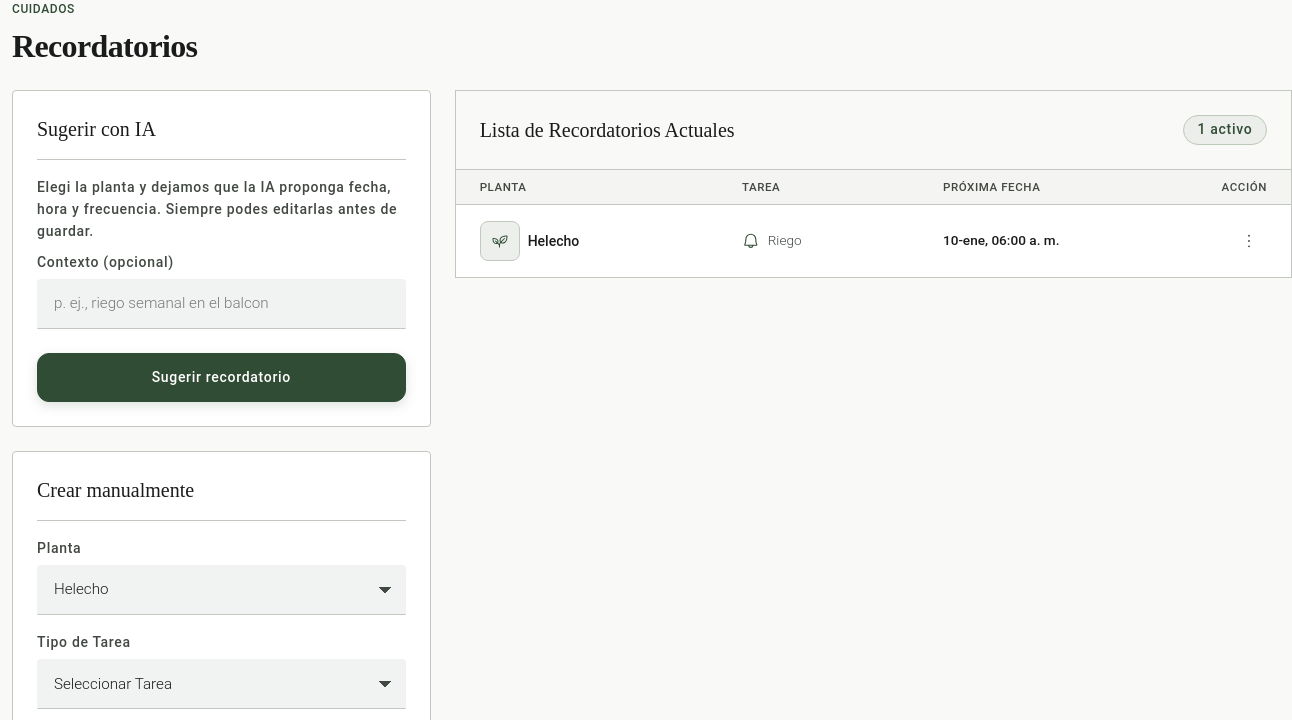
Scenario: RemindersManager › creates a reminder and invalidates reminder and garden queries
Select "Riego" in the dropdown labelled "Tipo de Tarea": (221,684) top-left (37, 659), bottom-right (406, 710)
(page scrolled)
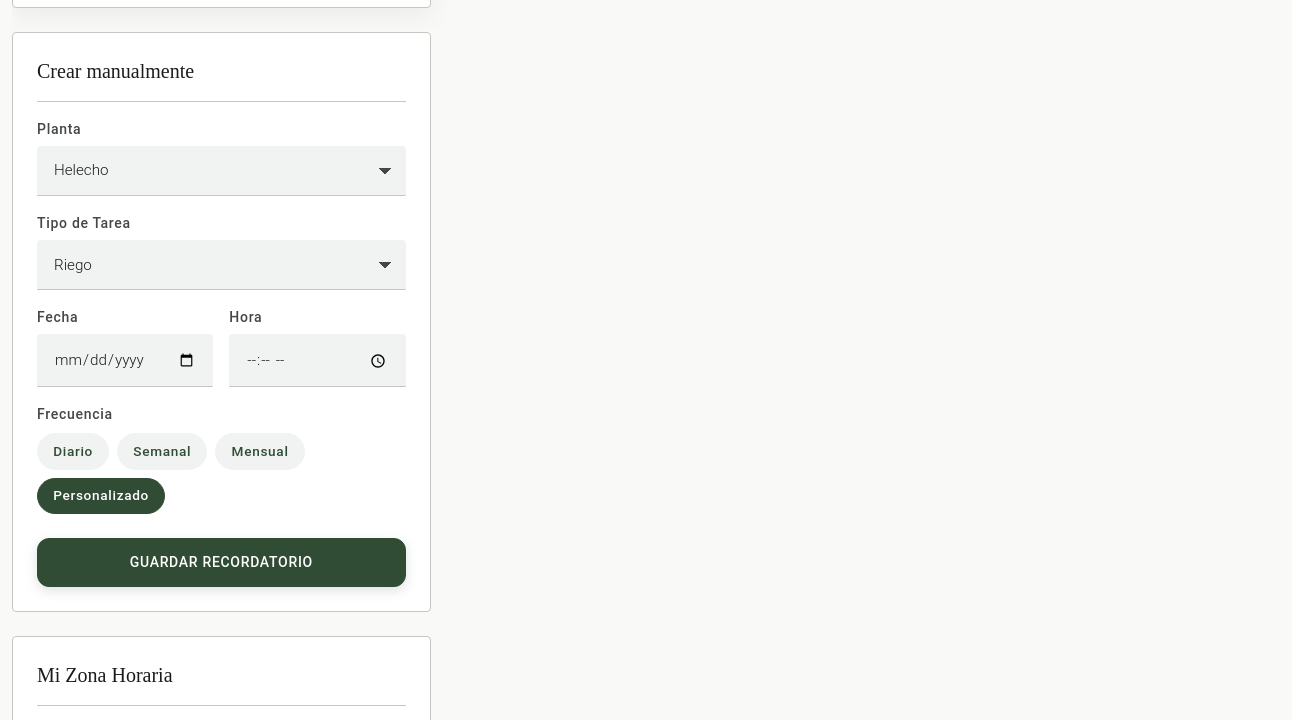
In the date field labelled "Fecha": (125,361) top-left (37, 334), bottom-right (213, 387), type "2999-01-10"
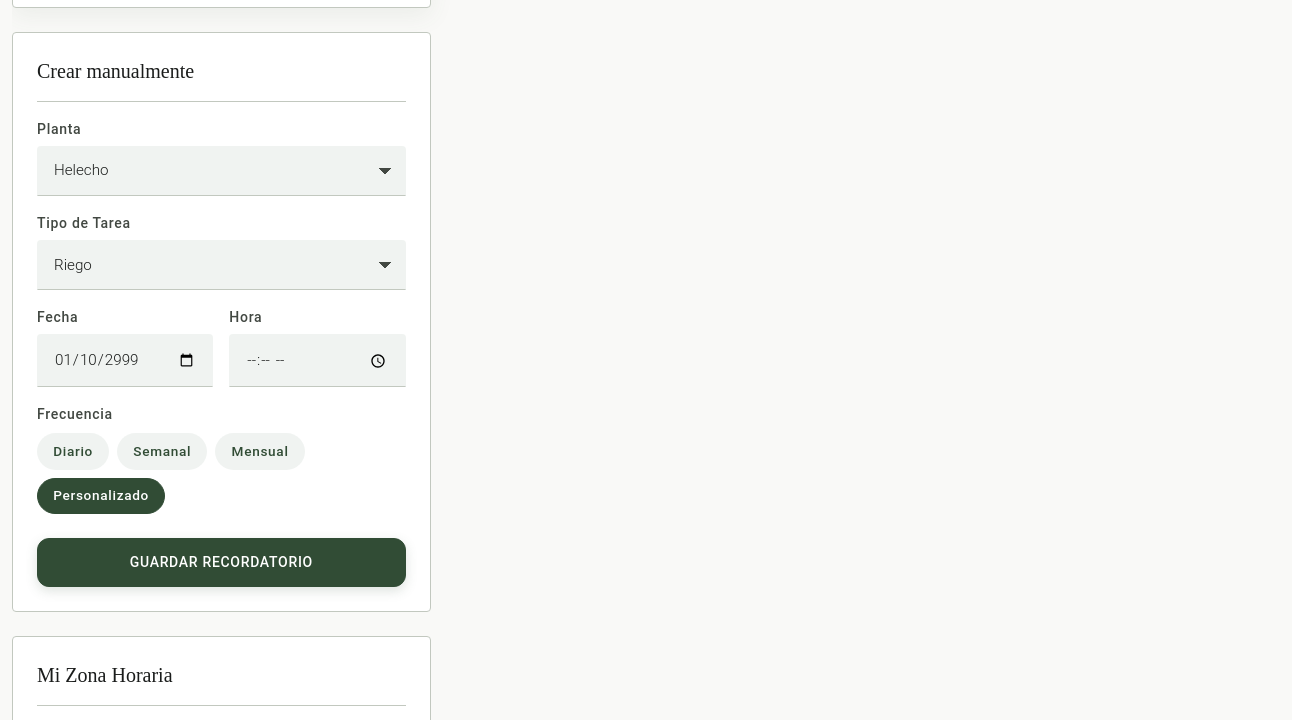
In the time field labelled "Hora": (317,361) top-left (229, 334), bottom-right (406, 387), type "09:00"
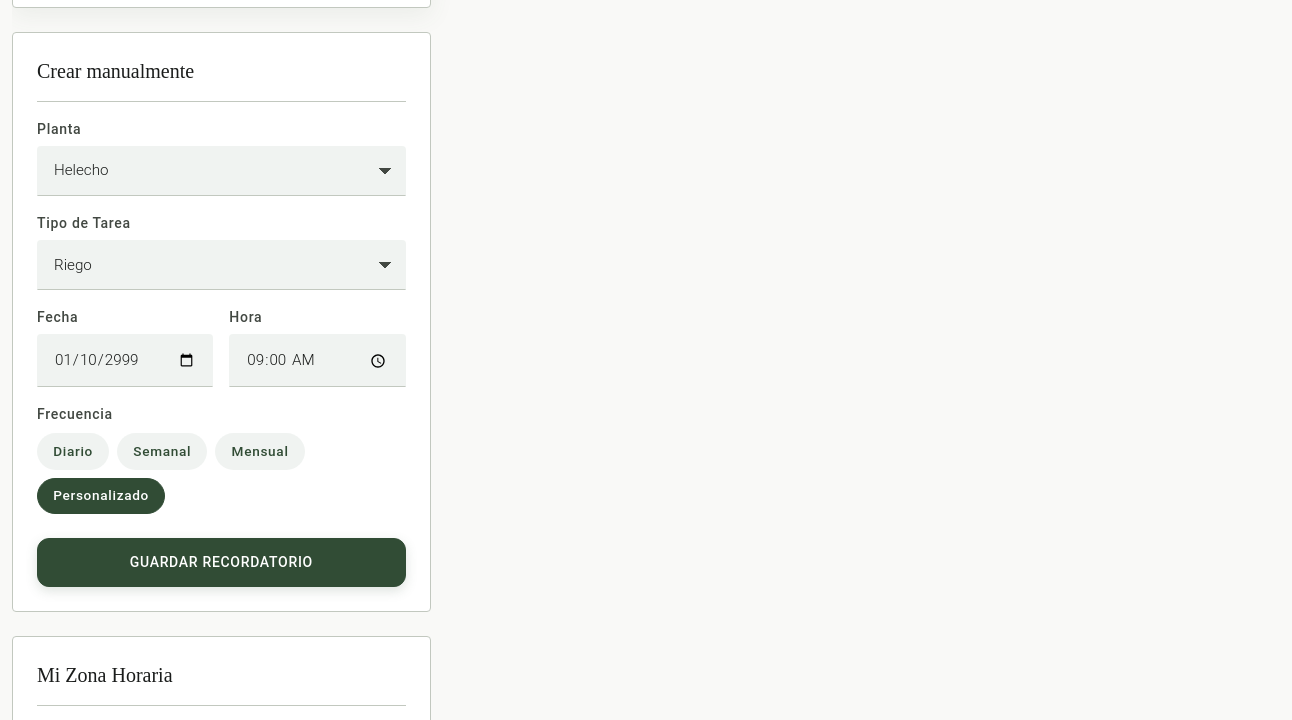
Click the radio button labelled "Semanal": (162,452) top-left (117, 433), bottom-right (208, 470)
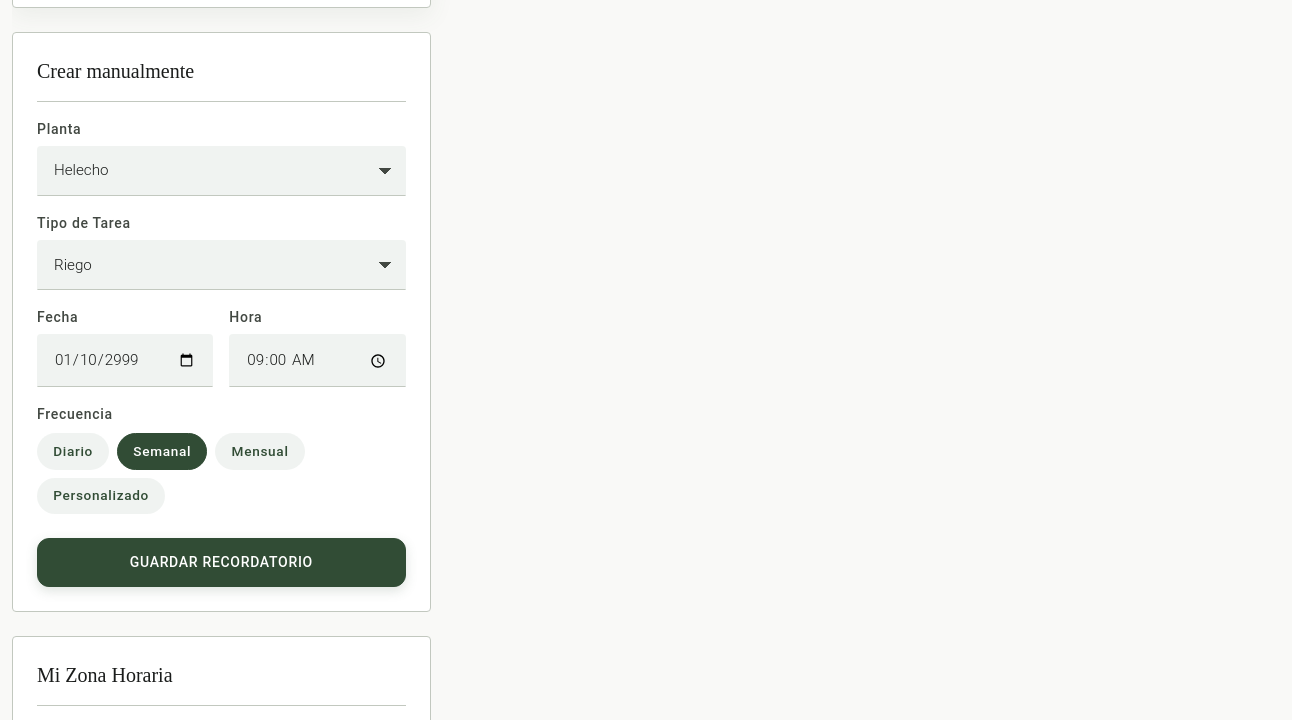
Submit the form named "Guardar recordatorio", box top-left (37, 118), bottom-right (406, 587)
(page scrolled)
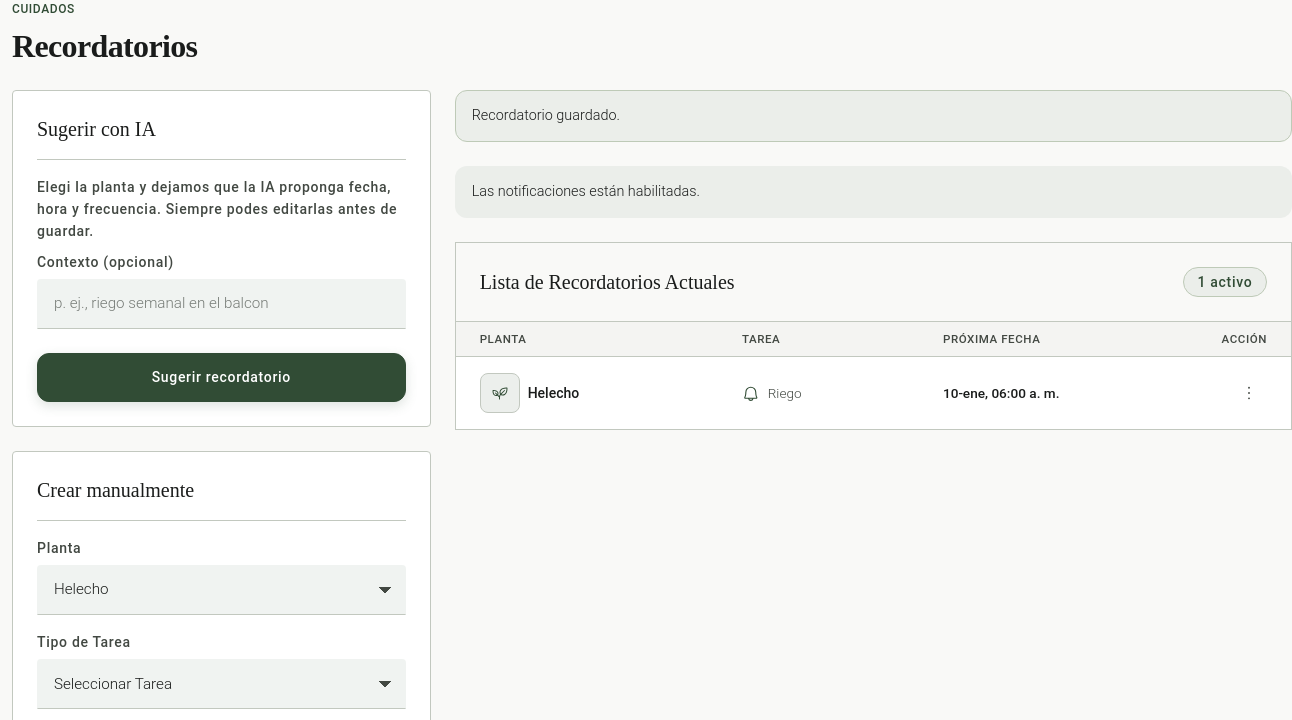
Result: the text "Recordatorio guardado." is shown at top-left (472, 104), bottom-right (620, 127)
Result: the text "Las notificaciones están habilitadas." is shown at top-left (472, 180), bottom-right (700, 203)
